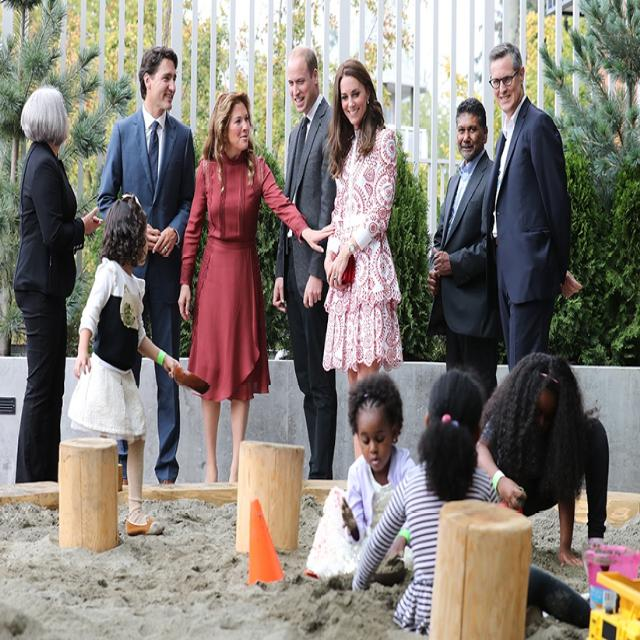body: (349, 363, 622, 639), (176, 88, 336, 486), (93, 45, 197, 486), (65, 189, 185, 536), (9, 82, 106, 484), (483, 39, 584, 378), (322, 57, 402, 460), (474, 350, 610, 570), (271, 43, 338, 484), (426, 96, 503, 405), (306, 372, 417, 584)
